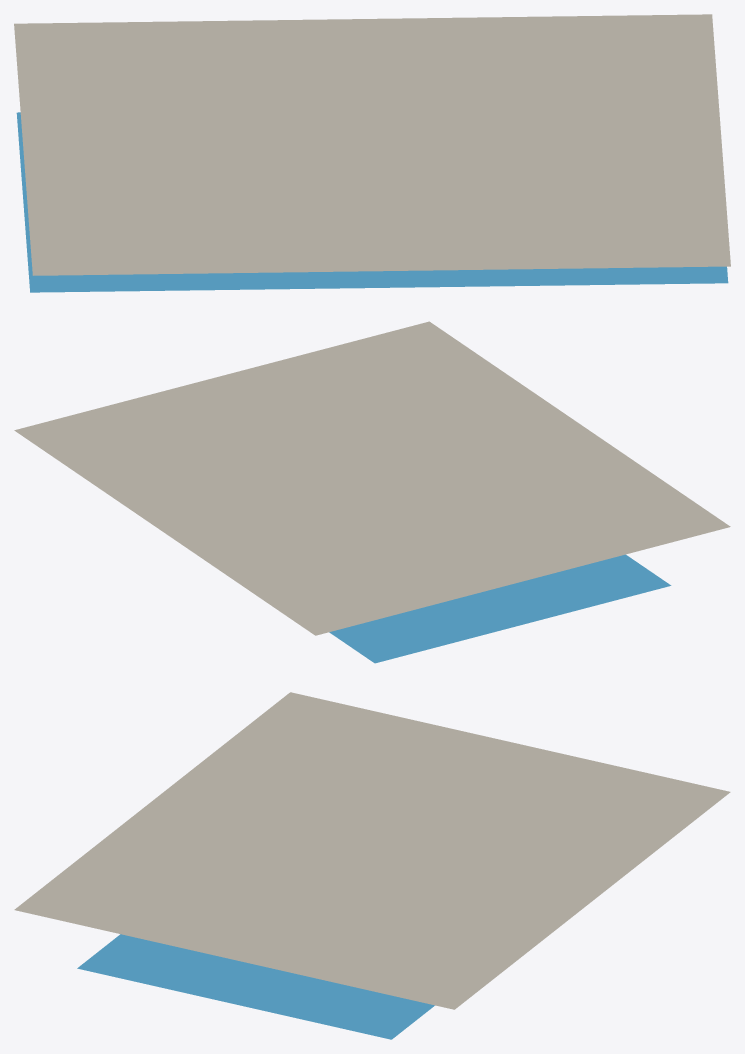
3 views of the same model, one above another, from view 1: azimuth 30°, elevation 25°; view 2: azimuth 150°, elevation 25°; view 3: azimuth 270°, elevation 25° (orthographic). The views are drawn at different scales.
Parts seen in each view (by area): view 1: estructura_terreno, estructura_agua; view 2: estructura_terreno, estructura_agua; view 3: estructura_terreno, estructura_agua.
Part boxes in pixels (x1,y1,x2,y2): estructura_terreno: (14,14,730,275); estructura_agua: (16,112,728,292); estructura_terreno: (14,321,730,635); estructura_agua: (329,554,671,663); estructura_terreno: (14,692,730,1009); estructura_agua: (77,934,434,1039).
Size of the model in its own units: 6.32 by 0.41 by 6.02.
